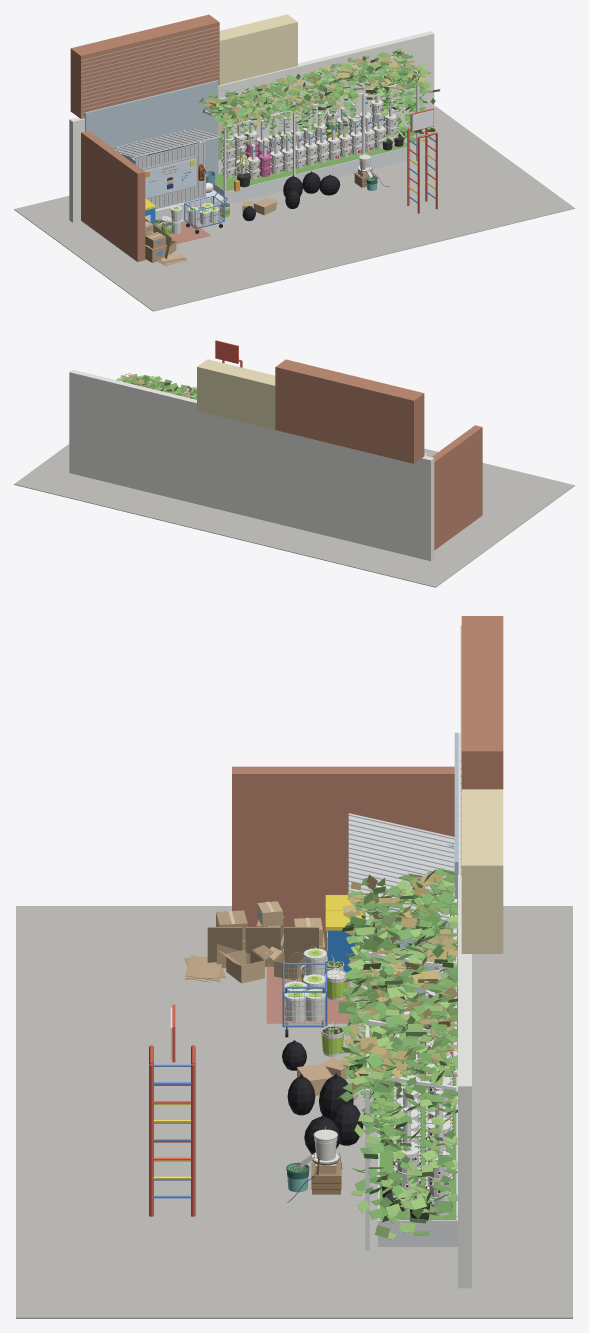
Rendered from bank-sampah.glb.
3 renders of one model, top to bottom at view 1: azimuth 30°, elevation 25°; view 2: azimuth 150°, elevation 25°; view 3: azimuth 270°, elevation 25°, orthographic. The views are drawn at different scales.
Parts seen in each view (by area): view 1: Dinding_Lingkungan, Lingkungan_Tambahan, Menara_Tanam_Biopori, Daun_Rambat_Tambahan, Daun_Rambat, Bank_Sampah_Bilik, Pijakan_Beton, Bilik_Depan_Seng, Sampah_Kardus_Karung, Panjatan_Bermain, Pergola_Rangka, Ember_GasLah_Bank (+3 smaller); view 2: Dinding_Lingkungan, Lingkungan_Tambahan, Daun_Rambat_Tambahan, Daun_Rambat, Panjatan_Bermain; view 3: Dinding_Lingkungan, Daun_Rambat_Tambahan, Lingkungan_Tambahan, Daun_Rambat, Sampah_Kardus_Kiri, Bank_Sampah_Bilik, Sampah_Kardus_Karung, Menara_Tanam_Biopori, Pijakan_Beton, Ember_GasLah_Bank, Panjatan_Bermain, Tong_Sampah_Biru (+2 smaller).
Boxes of the visible parts, x1,y1,x2,y2 form: Dinding_Lingkungan: (14, 31, 574, 311); Lingkungan_Tambahan: (70, 14, 297, 243); Menara_Tanam_Biopori: (221, 91, 398, 180); Daun_Rambat_Tambahan: (197, 51, 440, 151); Daun_Rambat: (199, 48, 428, 144); Bank_Sampah_Bilik: (113, 128, 223, 219); Pijakan_Beton: (213, 140, 412, 203); Bilik_Depan_Seng: (135, 141, 206, 209); Sampah_Kardus_Karung: (242, 171, 340, 220); Panjatan_Bermain: (407, 108, 437, 213); Pergola_Rangka: (202, 56, 419, 202); Ember_GasLah_Bank: (154, 201, 230, 236); Dinding_Lingkungan: (14, 369, 574, 587); Lingkungan_Tambahan: (197, 359, 424, 463); Daun_Rambat_Tambahan: (116, 373, 196, 399); Daun_Rambat: (122, 375, 196, 399); Panjatan_Bermain: (215, 340, 242, 367); Dinding_Lingkungan: (16, 733, 572, 1318); Daun_Rambat_Tambahan: (337, 869, 457, 1239); Lingkungan_Tambahan: (266, 616, 503, 1045); Daun_Rambat: (342, 868, 457, 1235); Sampah_Kardus_Kiri: (184, 901, 327, 983); Bank_Sampah_Bilik: (348, 813, 454, 1036); Sampah_Kardus_Karung: (282, 1040, 363, 1154); Menara_Tanam_Biopori: (392, 967, 453, 1215); Pijakan_Beton: (378, 1040, 457, 1246); Ember_GasLah_Bank: (284, 946, 347, 1056); Panjatan_Bermain: (149, 1004, 195, 1216); Tong_Sampah_Biru: (325, 895, 365, 979).
Bounding box in the file's own units: 14 × 5.28 × 8.
